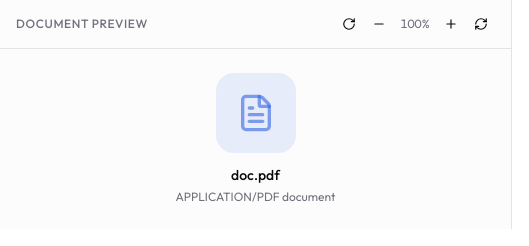
Scenario: DocumentPreview › zooms in when zoom in button is clicked
The image size is (529, 246).
Click the button titled "zoom in" at {"x": 451, "y": 24}, box [437, 10, 465, 38]
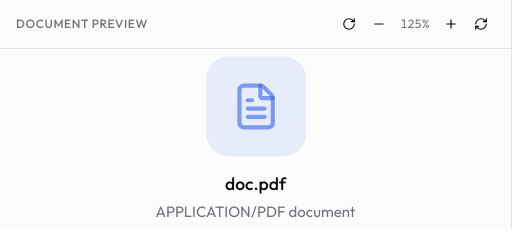
Check: the text "125%" is shown, box [400, 16, 430, 31]
